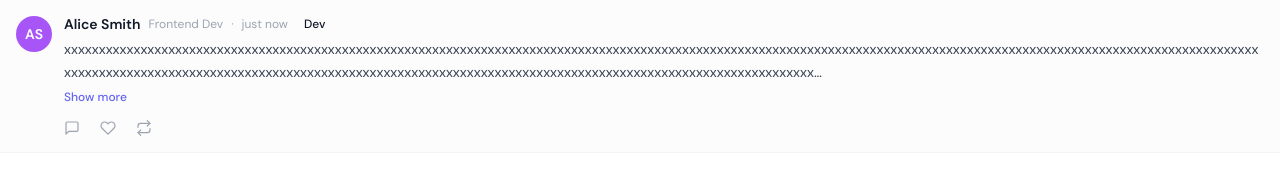
Test: PostCard › expands the full body when 'Show more' is clicked
Click the button "Show more" at point(95, 96), box [64,88,127,104]
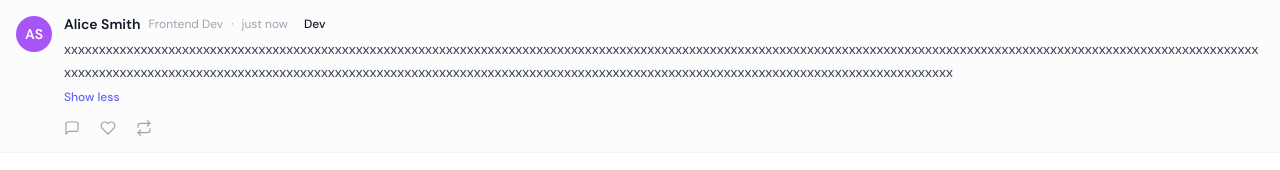
Expected: the button "Show less" is shown, [64,88,120,104]
